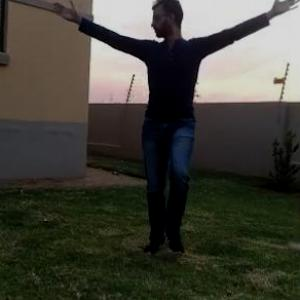takeoff: (52, 0, 299, 286)
